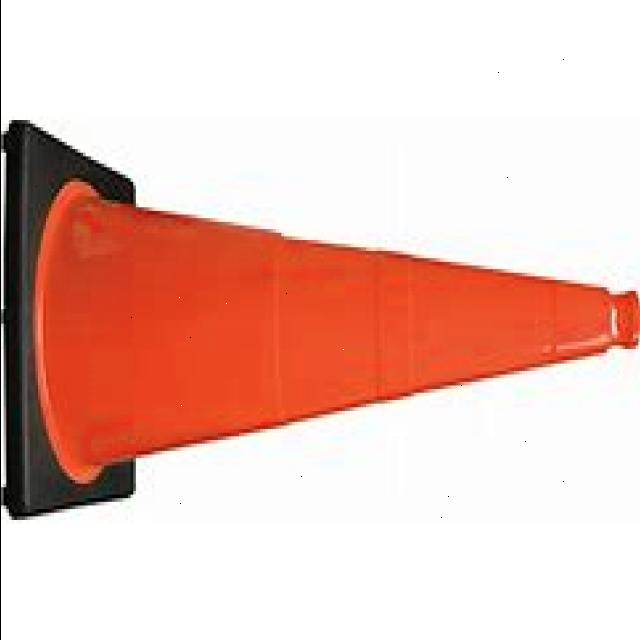traffic cone: (1, 103, 640, 532)
